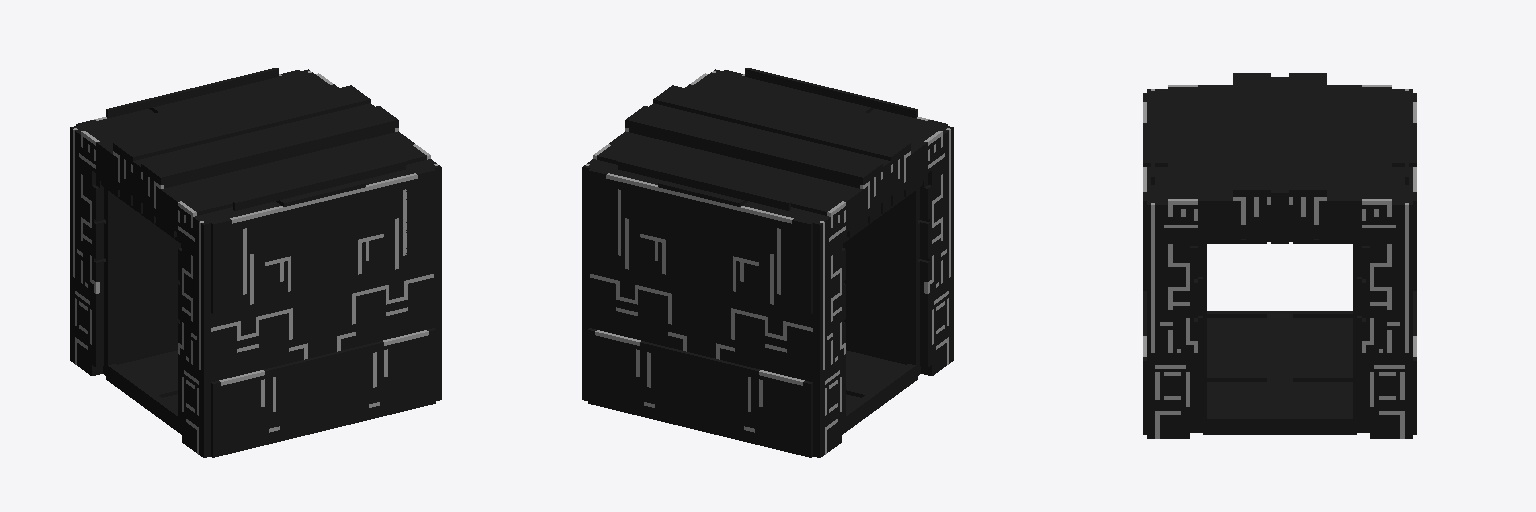
3 renders of one model, left to right at view 1: azimuth 30°, elevation 25°; view 2: azimuth 150°, elevation 25°; view 3: azimuth 270°, elevation 25°, orthographic.
Size of the model in its own units: 64 by 64 by 64.
Materials: 1 (1 with a texture image).